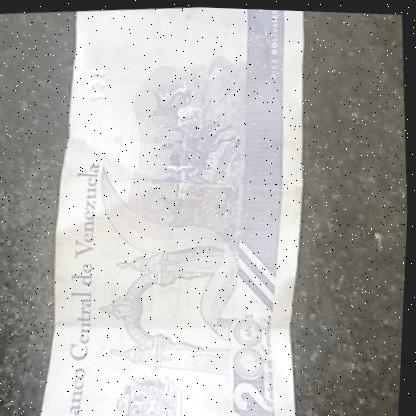ten-back-vef: (16, 1, 333, 416)
